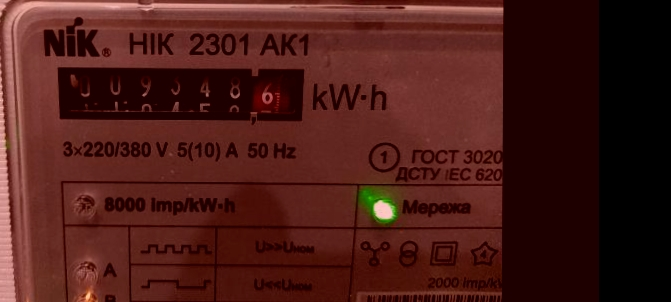0: (76, 73, 92, 99), (107, 70, 121, 96)
3: (168, 71, 182, 96)
4: (195, 69, 213, 99)
6: (258, 78, 275, 107)
8: (227, 72, 242, 100)
9: (138, 73, 152, 100)
screen: (38, 52, 317, 132)
